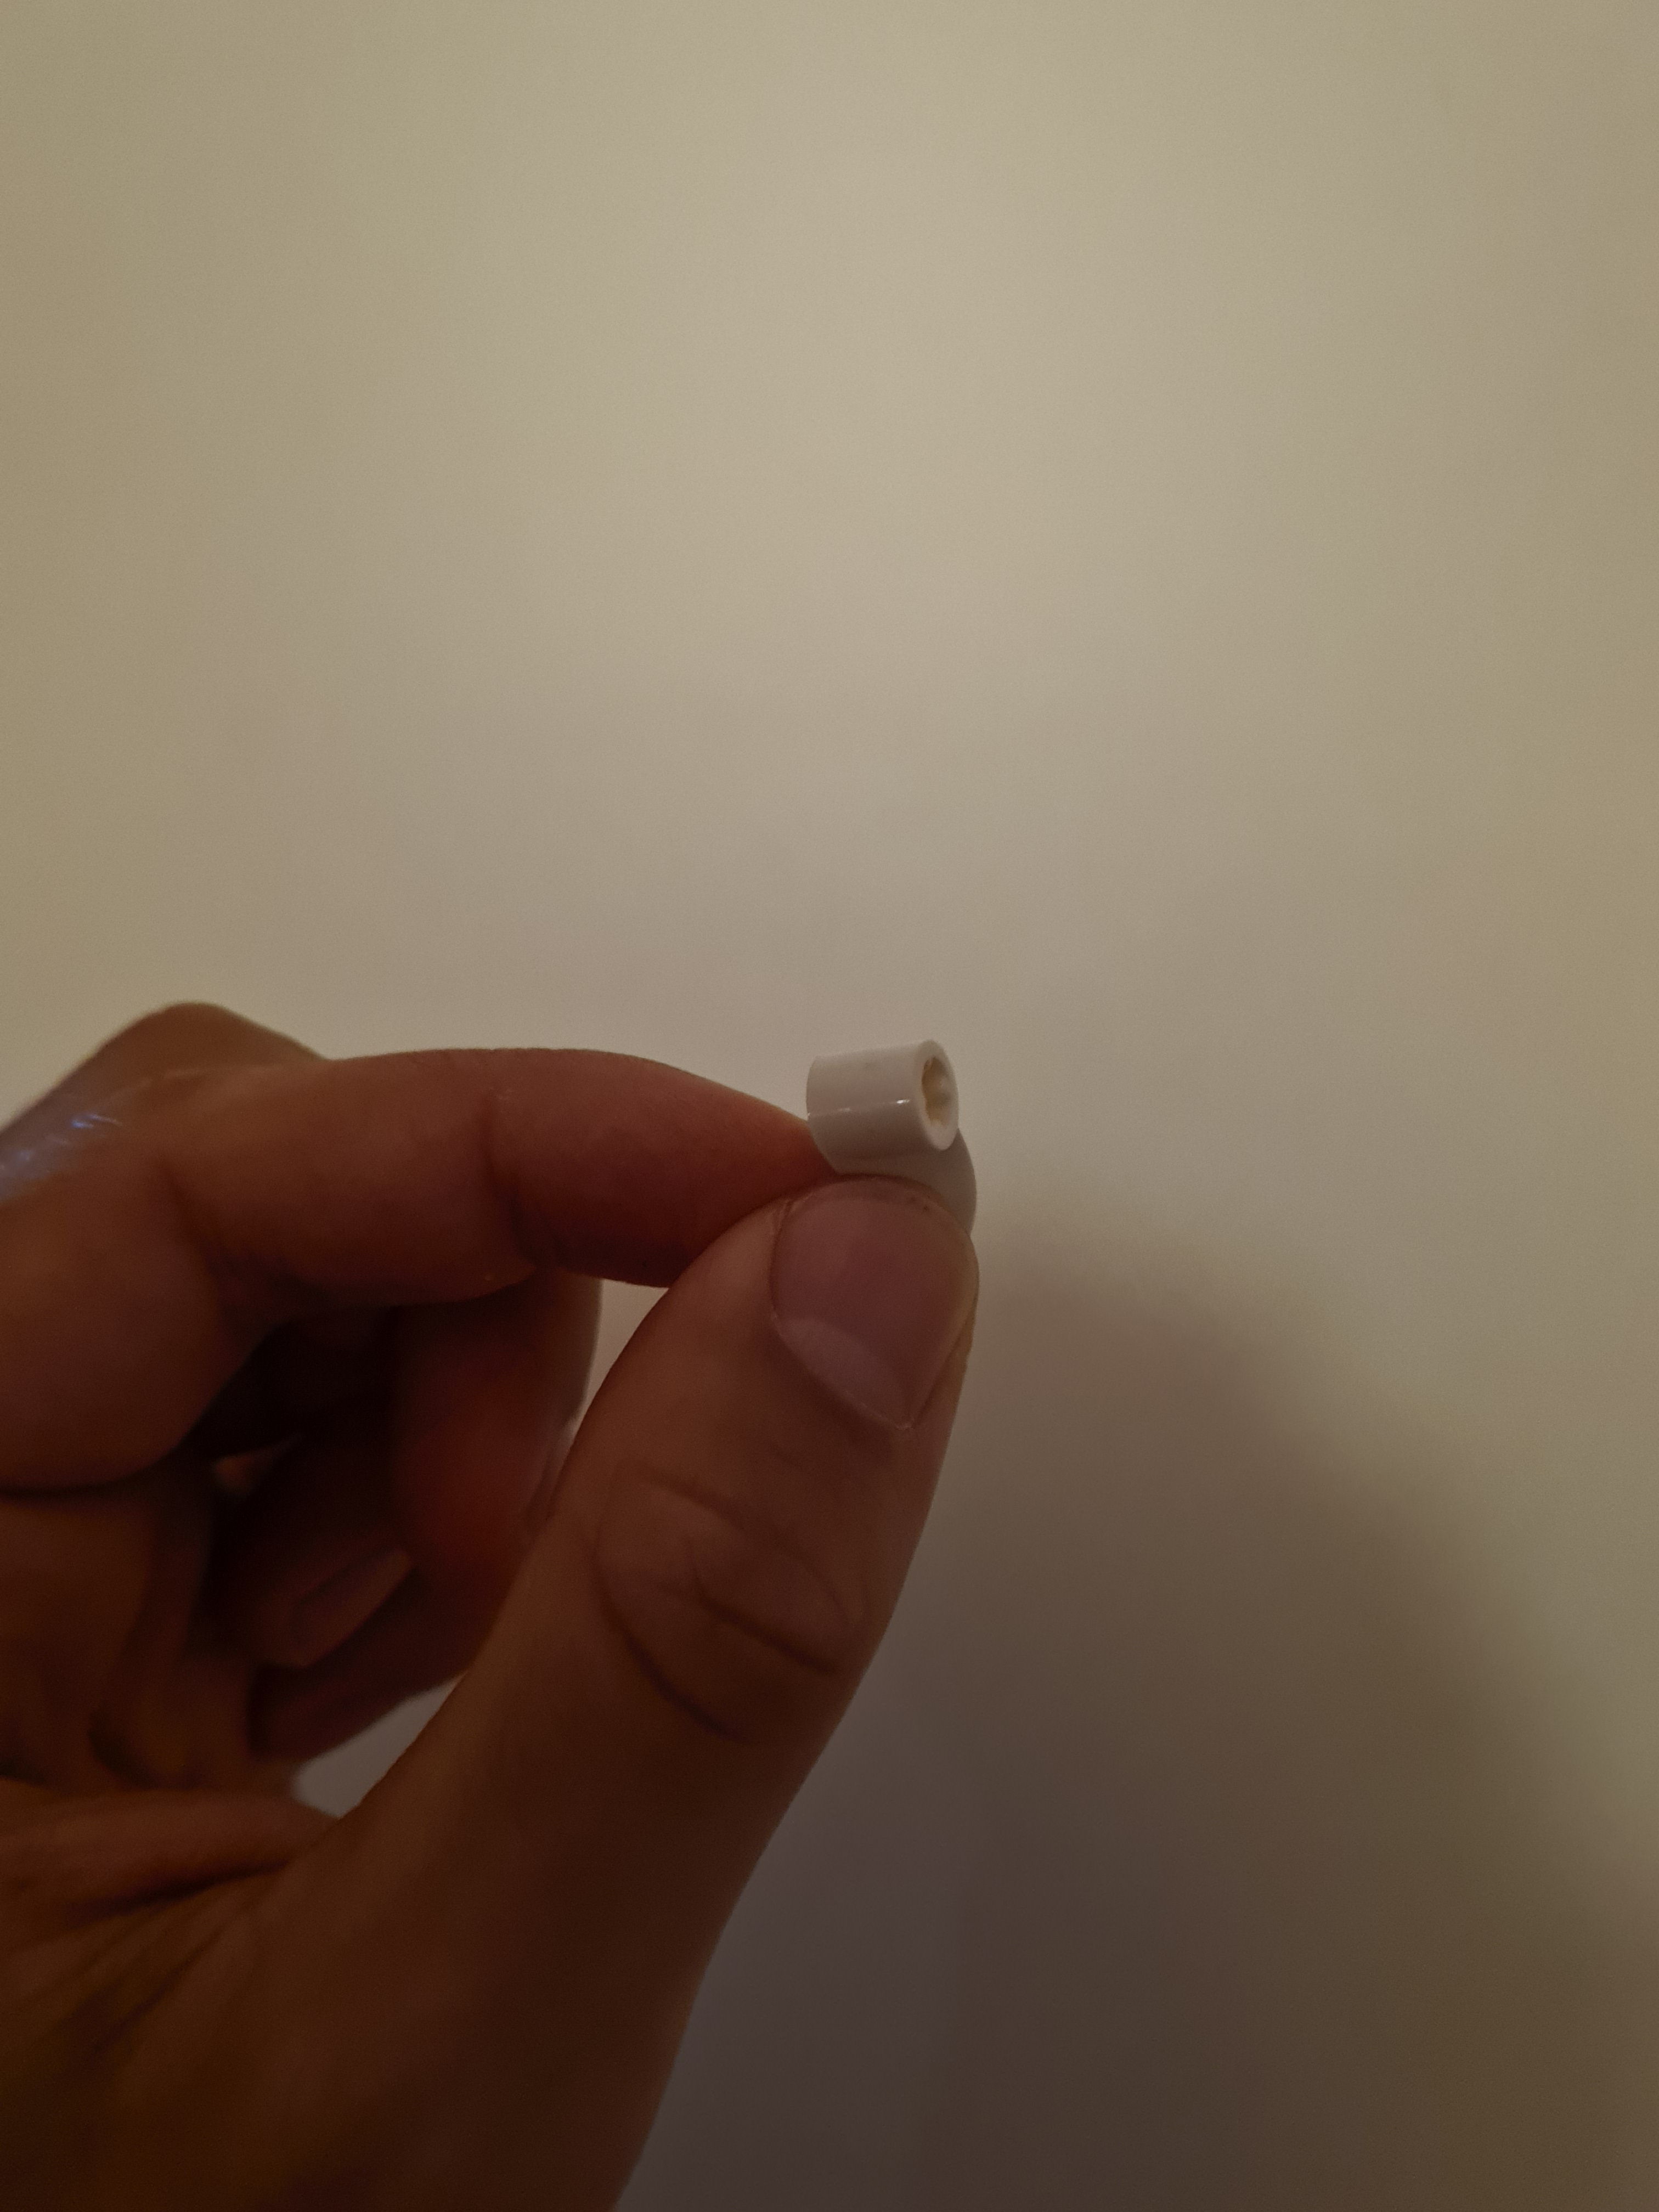Kappe: (774, 995, 1016, 1247)
